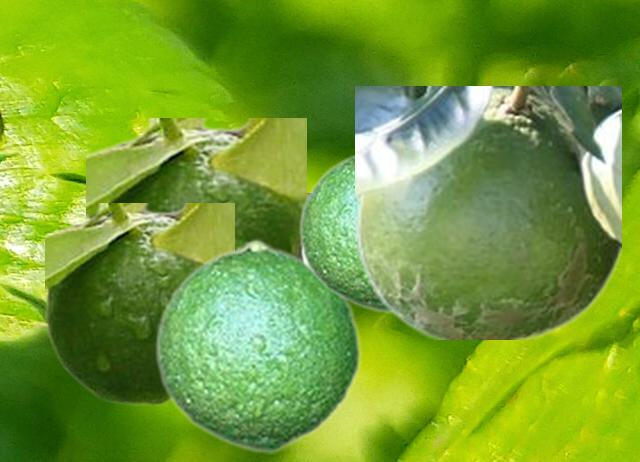dalandan: (355, 86, 620, 338), (153, 238, 361, 453), (45, 203, 233, 404), (86, 118, 305, 257), (297, 151, 387, 312)
